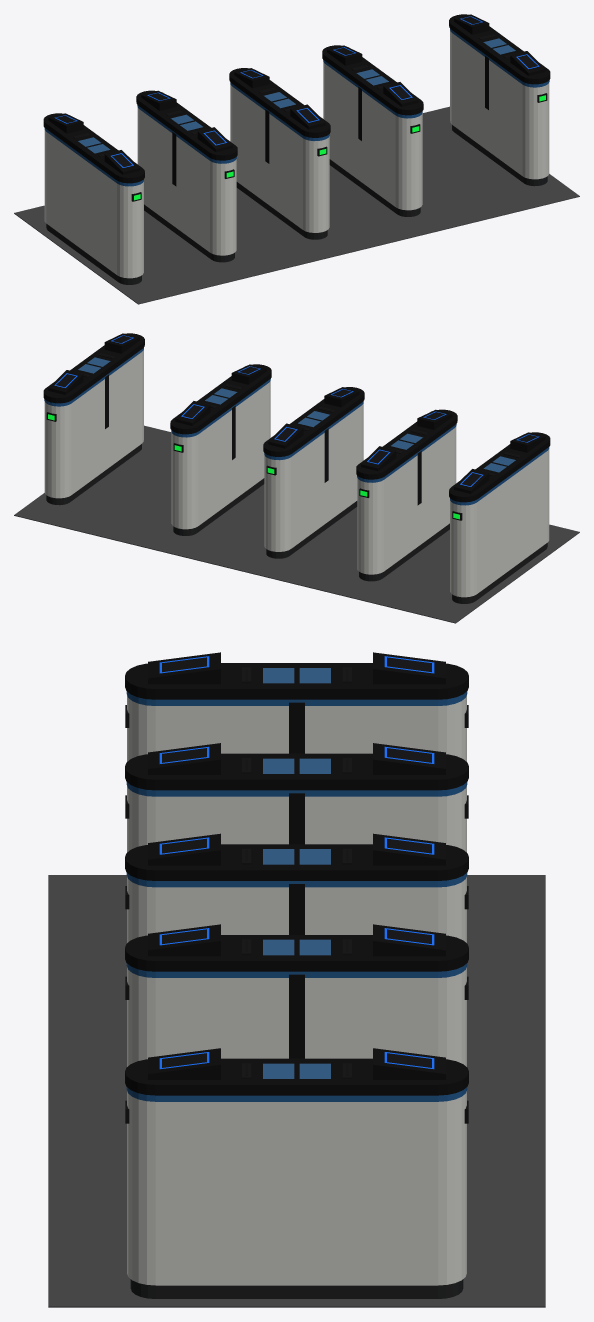
File: gteki_gate_array_4w1.glb
3 views of the same model, one above another, from view 1: azimuth 30°, elevation 25°; view 2: azimuth 150°, elevation 25°; view 3: azimuth 270°, elevation 25° (orthographic). The views are drawn at different scales.
Visible parts, largest first — view 1: VIS_body; view 2: VIS_body; view 3: VIS_body.
Part boxes in pixels (bbox=[...]): VIS_body: bbox=[14, 14, 579, 304]; VIS_body: bbox=[14, 333, 579, 623]; VIS_body: bbox=[48, 652, 545, 1307].
Size of what is drawn, in the model's own units: 3.9 by 0.985 by 1.9.
Materials: 1 (1 with a texture image).
